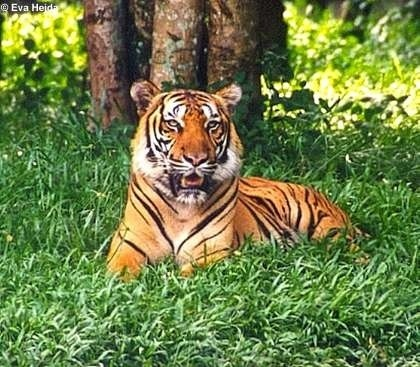tigre: (105, 77, 368, 282)
